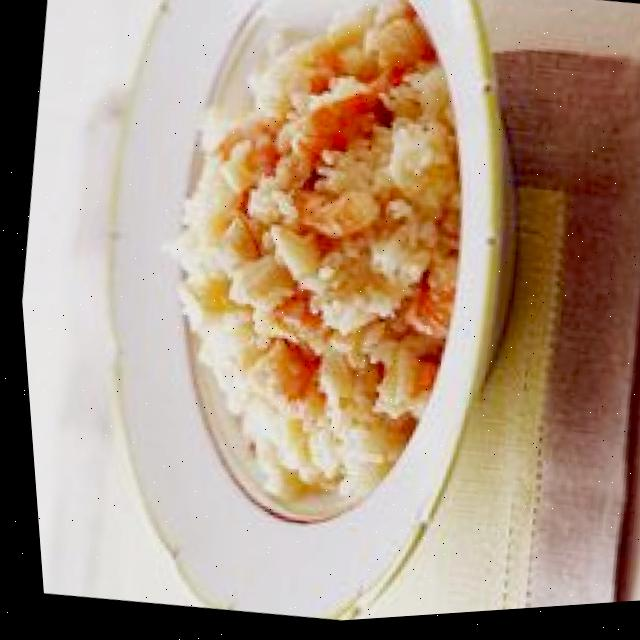米饭主食: (26, 0, 568, 639)
